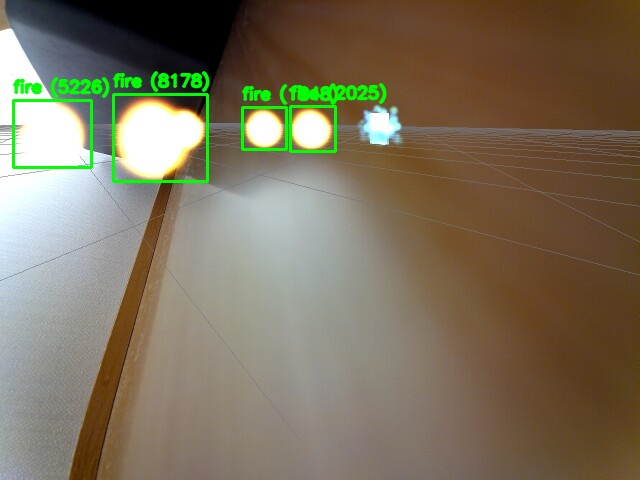fire: (113, 94, 207, 181), (13, 100, 91, 167), (290, 106, 335, 151), (242, 107, 286, 149)
